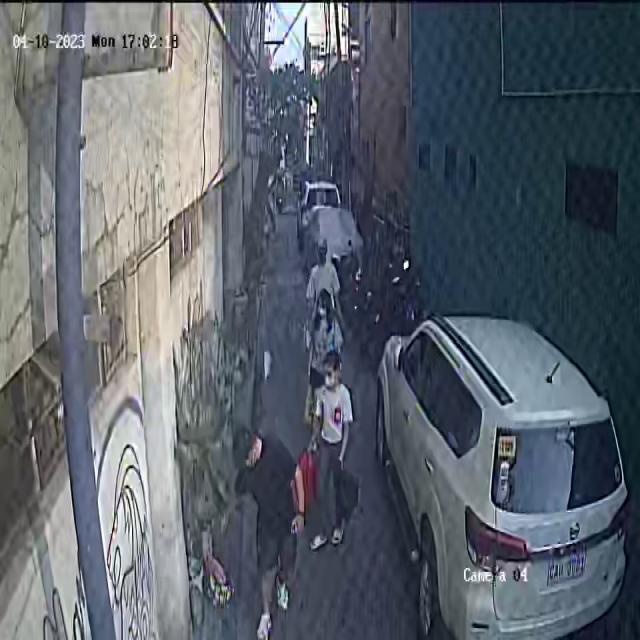garbage_dumping: (194, 529, 239, 608), (292, 432, 320, 522), (334, 461, 362, 523)
